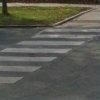Crosswalk: (17, 16, 73, 73)
